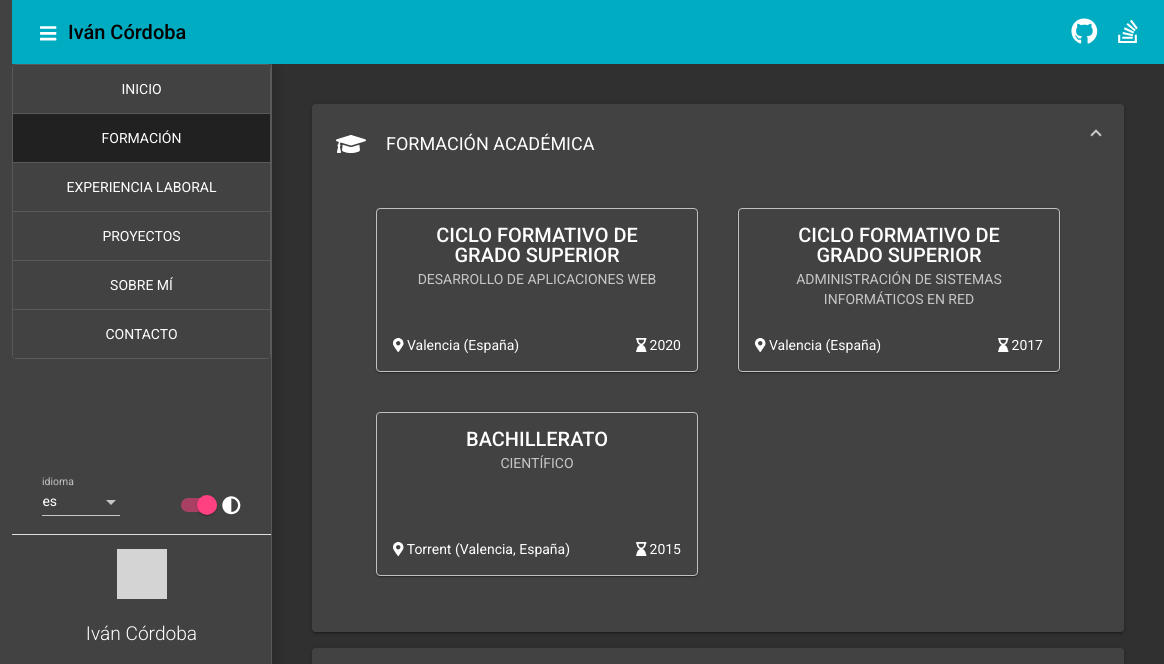
Test case: Education Page › should close/open academic titles panel
Click the button with test id "academicTitlesContainerHeader" showing "FORMACIÓN ACADÉMICA": [490, 143] box [336,126,1100,156]
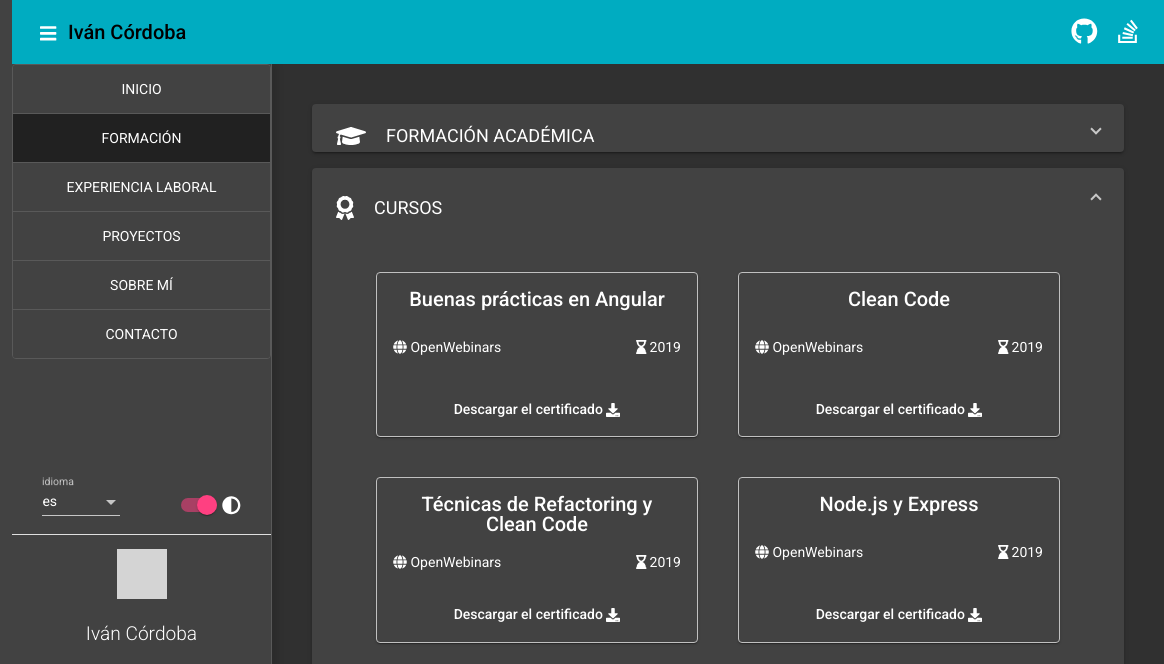
Click the button with test id "academicTitlesContainerHeader" showing "FORMACIÓN ACADÉMICA": [490, 135] box [312,104,1124,152]
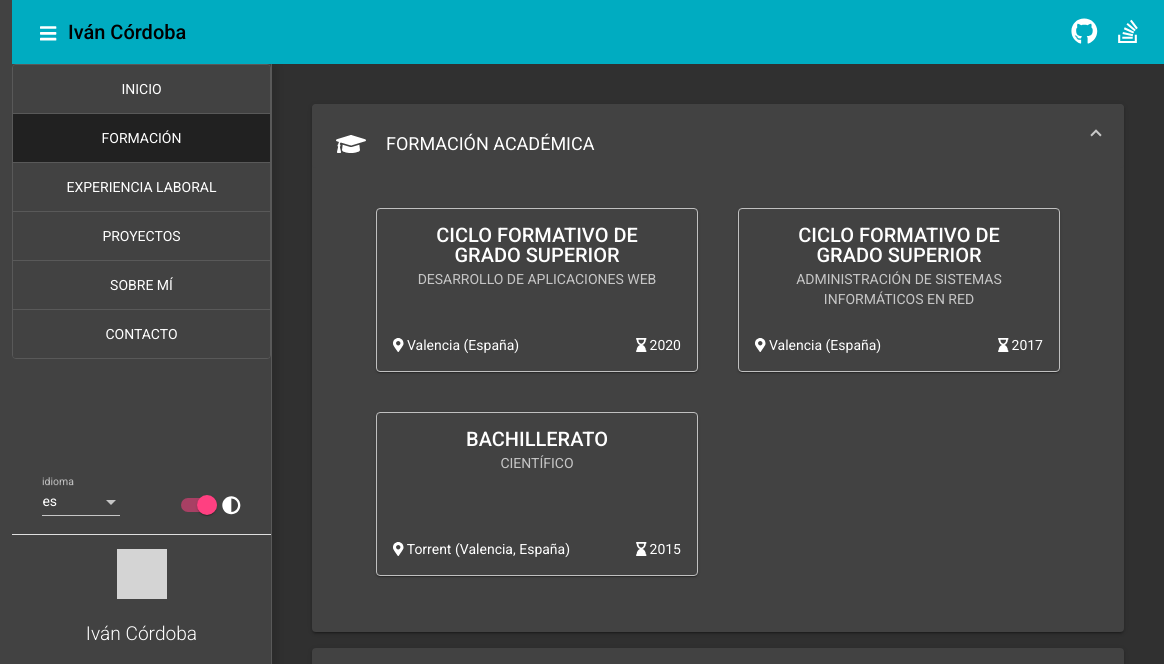
Check: the element with test id "academicTitlesContainerContent" is shown, box [376,208,1060,576]
